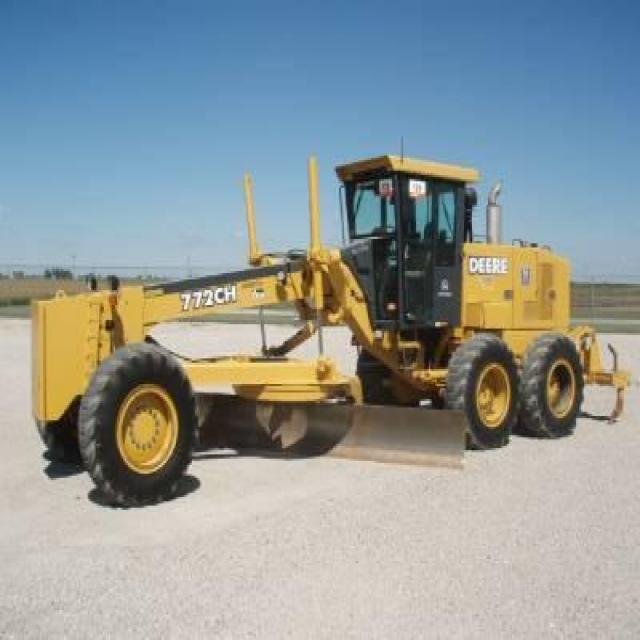Grader: (25, 137, 612, 514)
